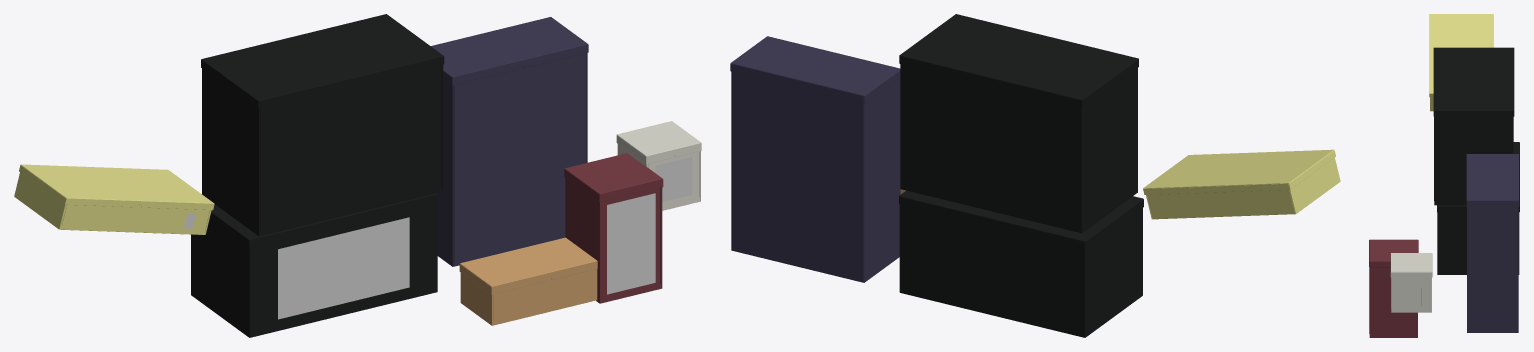
Rendered from top-packaging-openable.glb.
3 views of the same model, side by side, from view 1: azimuth 30°, elevation 25°; view 2: azimuth 150°, elevation 25°; view 3: azimuth 270°, elevation 25° (orthographic). The views are drawn at different scales.
Parts seen in each view (by area): view 1: WadeUpperBox ThickWallsAndScores, SonyHeadphonesBox ThickWallsAndScores, Furniture | Printed ink labels only | source photograph crop (×3), WadeLowerBox ThickWallsAndScores, WadeUpperBox LidBoardAndFoldedFlaps, UpperYellowBox LidBoardAndFoldedFlaps, SonyHeadphonesBox LidBoardAndFoldedFlaps, UpperYellowBox ThickWallsAndScores, CSGoBox LidBoardAndFoldedFlaps, NayukiFantasyBox ThickWallsAndScores, CSGoBox ThickWallsAndScores, NayukiFantasyBox LidBoardAndFoldedFlaps (+3 smaller); view 2: SonyHeadphonesBox ThickWallsAndScores, WadeUpperBox ThickWallsAndScores, WadeLowerBox ThickWallsAndScores, WadeUpperBox LidBoardAndFoldedFlaps, SonyHeadphonesBox LidBoardAndFoldedFlaps, UpperYellowBox LidBoardAndFoldedFlaps, UpperYellowBox ThickWallsAndScores, WadeLowerBox LidBoardAndFoldedFlaps; view 3: SonyHeadphonesBox ThickWallsAndScores, WadeUpperBox LidBoardAndFoldedFlaps, WadeUpperBox ThickWallsAndScores, SonyHeadphonesBox LidBoardAndFoldedFlaps, UpperYellowBox LidBoardAndFoldedFlaps, NayukiFantasyBox ThickWallsAndScores, WadeLowerBox ThickWallsAndScores, TastienBurgerBox ThickWallsAndScores, TastienBurgerBox LidBoardAndFoldedFlaps, NayukiFantasyBox LidBoardAndFoldedFlaps, WadeLowerBox LidBoardAndFoldedFlaps.
Boxes of the visible parts, x1,y1,x2,y2 form: WadeUpperBox ThickWallsAndScores: (202, 64, 443, 236); SonyHeadphonesBox ThickWallsAndScores: (437, 52, 587, 266); Furniture | Printed ink labels only | source photograph crop (×3): (278, 157, 692, 319); WadeLowerBox ThickWallsAndScores: (191, 202, 437, 337); WadeUpperBox LidBoardAndFoldedFlaps: (201, 14, 444, 109); UpperYellowBox LidBoardAndFoldedFlaps: (19, 164, 214, 210); SonyHeadphonesBox LidBoardAndFoldedFlaps: (431, 17, 588, 85); UpperYellowBox ThickWallsAndScores: (14, 172, 211, 234); CSGoBox LidBoardAndFoldedFlaps: (459, 237, 597, 294); NayukiFantasyBox ThickWallsAndScores: (565, 178, 662, 303); CSGoBox ThickWallsAndScores: (460, 269, 597, 325); NayukiFantasyBox LidBoardAndFoldedFlaps: (564, 153, 663, 202); SonyHeadphonesBox ThickWallsAndScores: (731, 71, 900, 282); WadeUpperBox ThickWallsAndScores: (900, 64, 1137, 233); WadeLowerBox ThickWallsAndScores: (899, 204, 1142, 337); WadeUpperBox LidBoardAndFoldedFlaps: (899, 14, 1138, 108); SonyHeadphonesBox LidBoardAndFoldedFlaps: (730, 36, 900, 103); UpperYellowBox LidBoardAndFoldedFlaps: (1143, 149, 1335, 194); UpperYellowBox ThickWallsAndScores: (1146, 157, 1340, 219); WadeLowerBox LidBoardAndFoldedFlaps: (899, 190, 1143, 249); SonyHeadphonesBox ThickWallsAndScores: (1467, 206, 1518, 332); WadeUpperBox LidBoardAndFoldedFlaps: (1433, 47, 1514, 116); WadeUpperBox ThickWallsAndScores: (1434, 116, 1513, 205); SonyHeadphonesBox LidBoardAndFoldedFlaps: (1466, 154, 1518, 206); UpperYellowBox LidBoardAndFoldedFlaps: (1429, 14, 1493, 97); NayukiFantasyBox ThickWallsAndScores: (1369, 267, 1417, 337); WadeLowerBox ThickWallsAndScores: (1437, 212, 1519, 274); TastienBurgerBox ThickWallsAndScores: (1391, 277, 1431, 312); TastienBurgerBox LidBoardAndFoldedFlaps: (1390, 253, 1432, 277); NayukiFantasyBox LidBoardAndFoldedFlaps: (1369, 239, 1418, 267); WadeLowerBox LidBoardAndFoldedFlaps: (1437, 142, 1519, 212).
Bounding box in the file's own units: 2.43 × 0.9116 × 0.7386.
